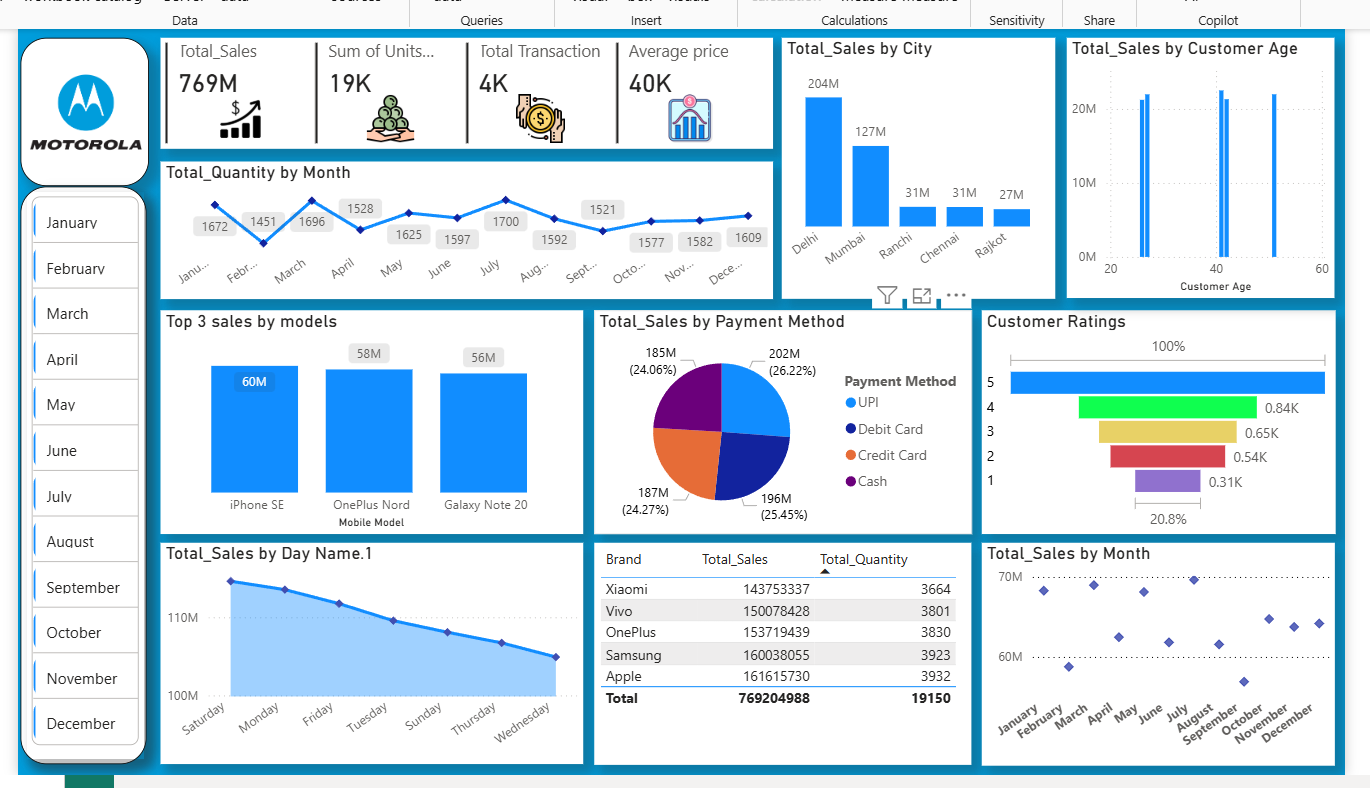

This screenshot's page, from the dashboard's own definition file:
{"tool":"powerbi","page":{"name":"Page 1","canvas":[1280,720],"ordinal":0},"visuals":[{"type":"shape","box":[2.4,8.4,124.3,143.6],"z":0},{"type":"image","box":[3.6,20.5,121.9,119.4],"z":1000},{"type":"shape","box":[2.4,152,121.9,557.4],"z":2000},{"type":"advancedSlicerVisual","fields":{"Values":["sales data.Date.Variation.Date Hierarchy.Month"]},"box":[8.4,156.8,113.4,547.7],"z":3000},{"type":"cardVisual","fields":{"Data":["sales data.Total_Sales","Sum(sales data.Units Sold)","sales data.Total Transaction","sales data.Average price"]},"box":[137.5,8.4,591.2,107.4],"z":4000},{"type":"lineChart","fields":{"Y":["sales data.Total_Quantity"],"Category":["sales data.Date.Variation.Date Hierarchy.Month"]},"box":[137.5,127.9,591.2,132.7],"z":5000},{"type":"columnChart","title":"Top 3 sales by models","fields":{"Category":["sales data.Mobile Model"],"Y":["sales data.Total_Sales"]},"box":[137.5,271.4,407.8,216],"z":6000},{"type":"clusteredColumnChart","fields":{"Category":["sales data.City"],"Y":["sales data.Total_Sales"]},"box":[737.1,8.4,264.2,252.1],"z":7000},{"type":"pieChart","fields":{"Category":["sales data.Payment Method"],"Y":["sales data.Total_Sales"]},"box":[556.2,271.4,364.3,216],"z":8000},{"type":"funnel","title":"Customer Ratings","fields":{"Category":["sales data.Customer Ratings"],"Y":["CountNonNull(sales data.Customer Ratings)"]},"box":[930.2,271.4,341.4,216],"z":9000},{"type":"areaChart","fields":{"Category":["sales data.Day Name.1"],"Y":["sales data.Total_Sales"]},"box":[137.5,495.8,407.8,213.5],"z":9001},{"type":"columnChart","fields":{"Category":["sales data.Customer Age"],"Y":["sales data.Total_Sales"]},"box":[1011.7,8.5,258.6,251.5],"z":9002},{"type":"tableEx","fields":{"Values":["sales data.Brand","sales data.Total_Sales","sales data.Total_Quantity"]},"box":[556.2,495.8,364.3,214.7],"z":9003},{"type":"scatterChart","fields":{"X":["sales data.Date.Variation.Date Hierarchy.Month"],"Y":["sales data.Total_Sales"]},"box":[930,496,341,215],"z":9004}]}

Visuals, with their boxes in screenshot pixels (x1, y1, x2, y2):
shape: x1=13 y1=30 x2=144 y2=182
image: x1=14 y1=43 x2=143 y2=169
shape: x1=13 y1=182 x2=142 y2=770
advancedSlicerVisual - sales data.Date.Variation.Date Hierarchy.Month: x1=20 y1=187 x2=139 y2=765
cardVisual - sales data.Total_Sales x Sum(sales data.Units Sold): x1=156 y1=30 x2=780 y2=144
lineChart - sales data.Total_Quantity x sales data.Date.Variation.Date Hierarchy.Month: x1=156 y1=156 x2=780 y2=296
"Top 3 sales by models" columnChart: x1=156 y1=308 x2=586 y2=536
clusteredColumnChart - sales data.City x sales data.Total_Sales: x1=789 y1=30 x2=1068 y2=296
pieChart - sales data.Payment Method x sales data.Total_Sales: x1=598 y1=308 x2=982 y2=536
"Customer Ratings" funnel: x1=993 y1=308 x2=1353 y2=536
areaChart - sales data.Day Name.1 x sales data.Total_Sales: x1=156 y1=545 x2=586 y2=770
columnChart - sales data.Customer Age x sales data.Total_Sales: x1=1079 y1=30 x2=1352 y2=296
tableEx - sales data.Brand x sales data.Total_Sales: x1=598 y1=545 x2=982 y2=771
scatterChart - sales data.Date.Variation.Date Hierarchy.Month x sales data.Total_Sales: x1=992 y1=545 x2=1352 y2=772
